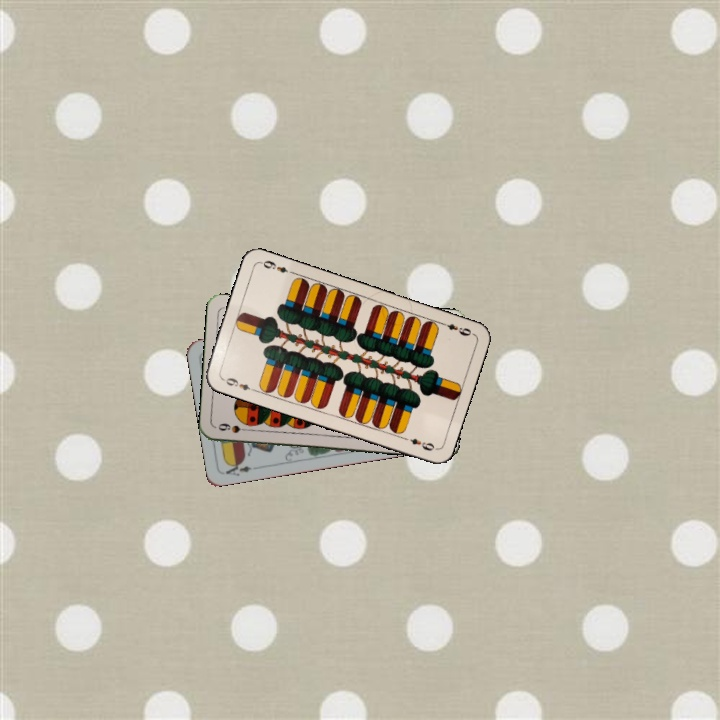E9: (218, 374, 258, 394), (436, 318, 474, 339)
EA: (221, 458, 261, 479)
S9: (214, 419, 254, 435)
